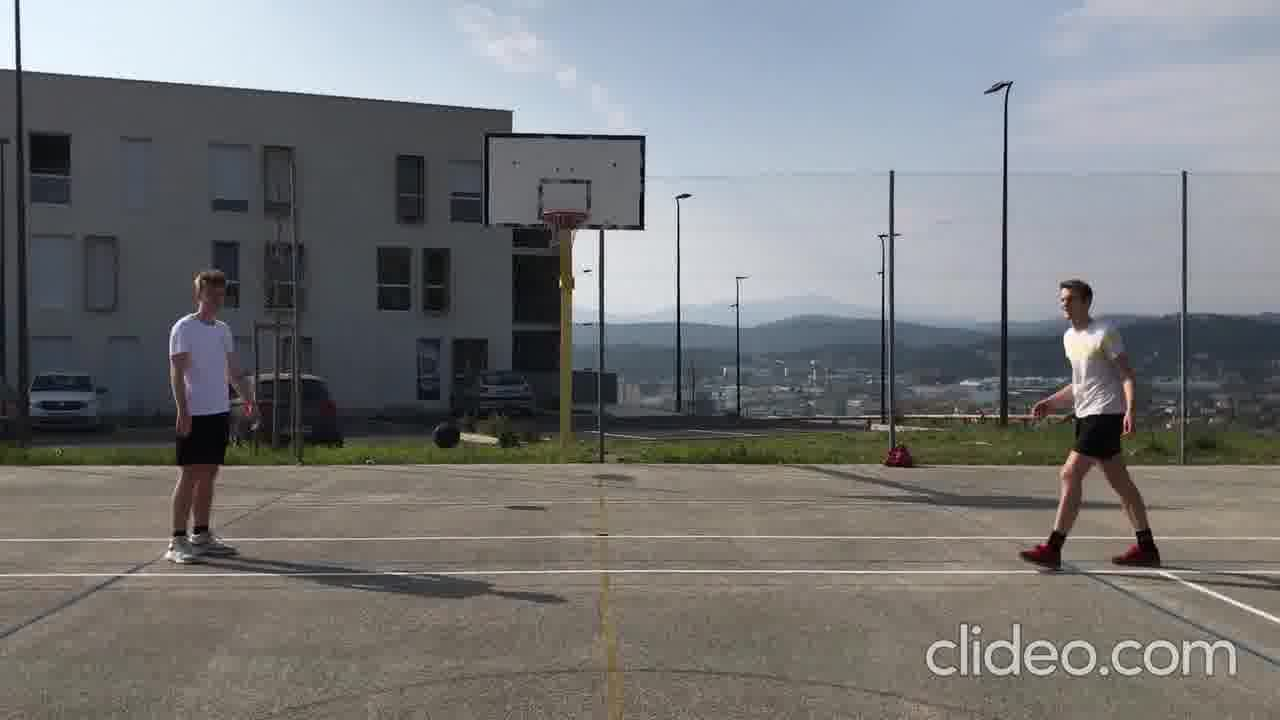jugador: (1011, 267, 1172, 582)
